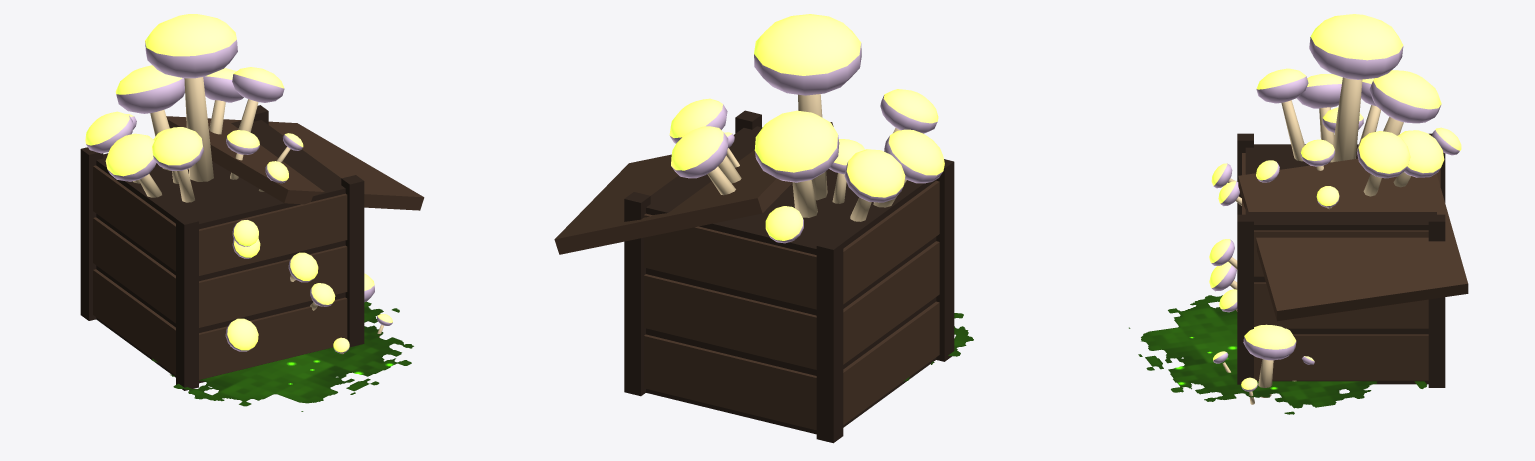
The model's file is pilz_kiste.glb.
3 renders of one model, left to right at view 1: azimuth 30°, elevation 25°; view 2: azimuth 150°, elevation 25°; view 3: azimuth 270°, elevation 25°, orthographic. The views are drawn at different scales.
Visible parts, largest first — view 1: pilz_kiste; view 2: pilz_kiste; view 3: pilz_kiste.
Part boxes in pixels (x1,y1,x2,y2): pilz_kiste: (80,14,424,411); pilz_kiste: (554,14,973,443); pilz_kiste: (1129,14,1468,414).
Size of the model in its own units: 1.9 by 1.47 by 1.9.
Materials: 6 (1 with a texture image).
